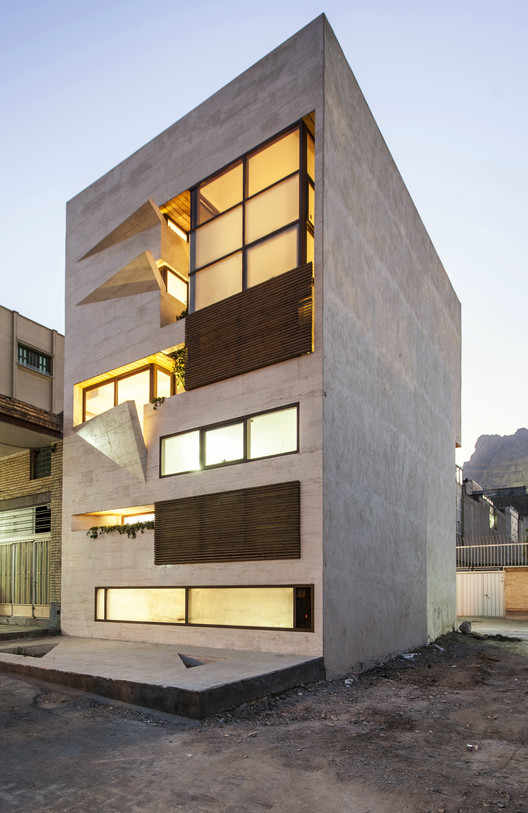Building House: (53, 28, 461, 664)
